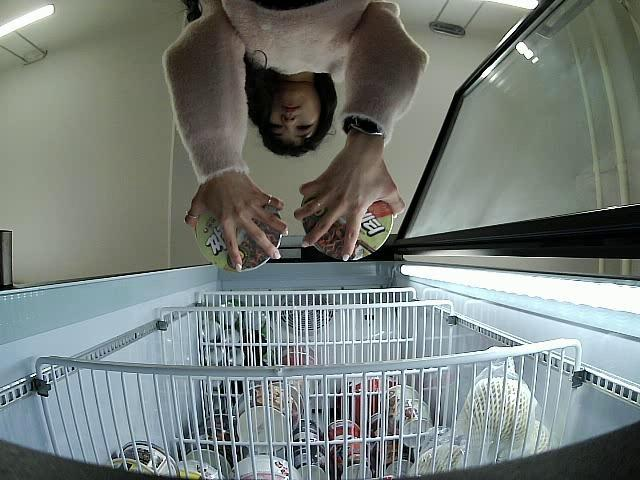03_chapagetti_L: (192, 205, 282, 272), (305, 192, 392, 260)
